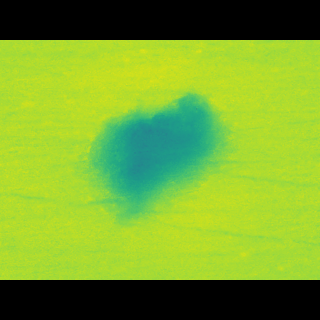Loch: (84, 104, 231, 205)
